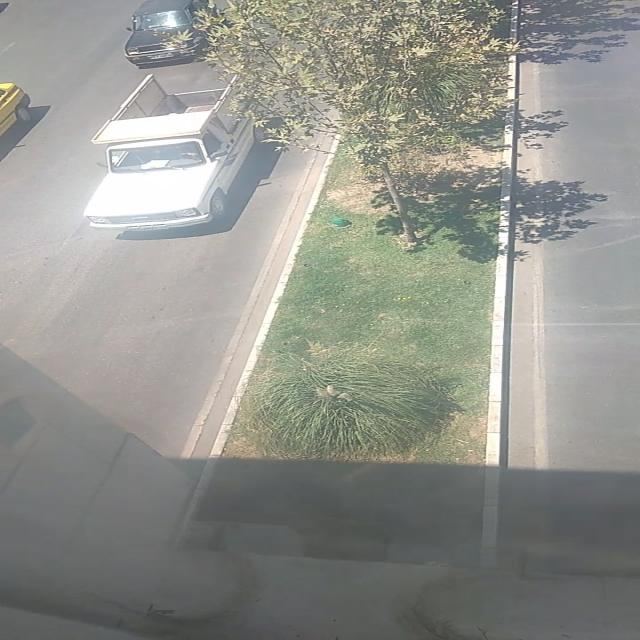car: (81, 72, 272, 231), (125, 1, 226, 66)
